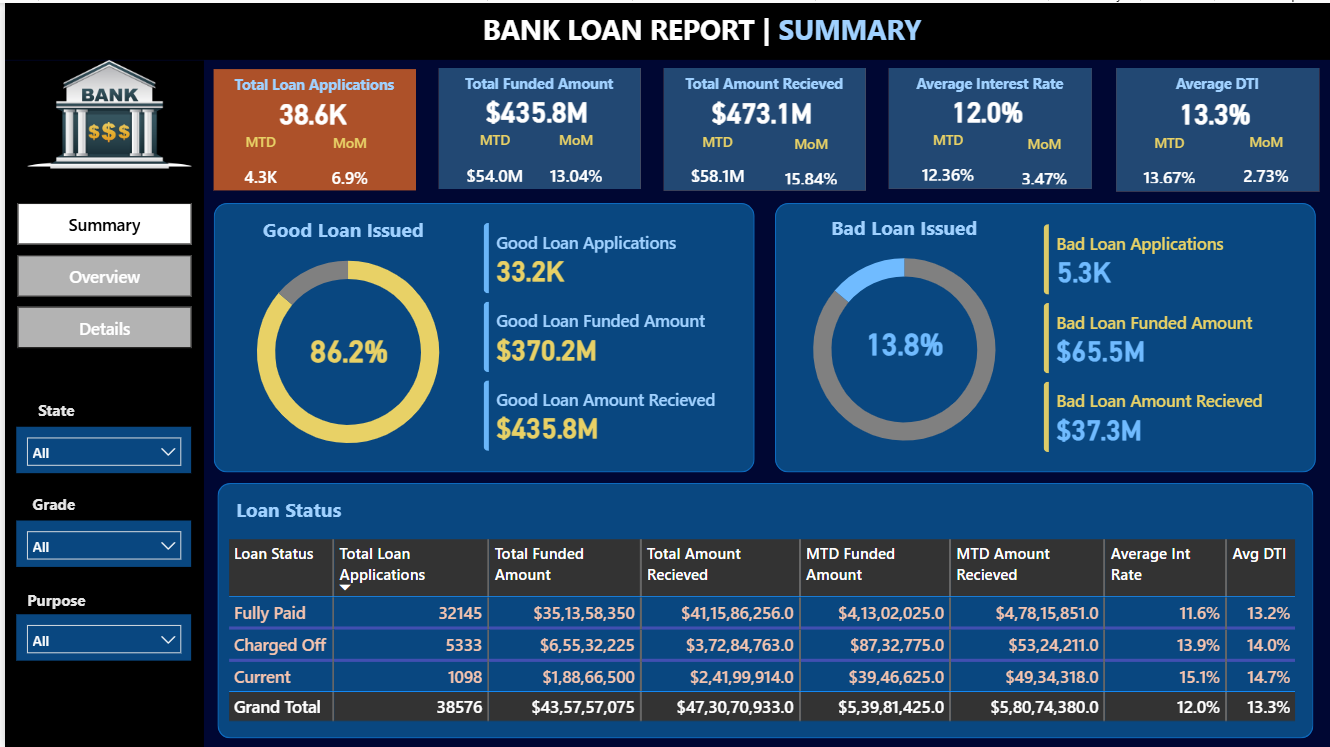

Layout of this report page (visuals, bound fields, positions):
{"tool":"powerbi","page":{"name":"Summary","canvas":[1280,720],"ordinal":0},"visuals":[{"type":"shape","box":[0,0,1280,54.9],"z":0},{"type":"shape","box":[419.4,63.1,195,117],"z":0,"group":"g2"},{"type":"shape","box":[636.9,63.1,195,118.4],"z":0,"group":"g3"},{"type":"shape","box":[853.7,63.1,196.1,116.6],"z":0,"group":"g4"},{"type":"shape","box":[1073.2,63.1,196.1,119.4],"z":0,"group":"g5"},{"type":"shape","box":[201.7,64.2,195,117],"z":0,"group":"g1"},{"type":"shape","box":[0,55.5,192,664.7],"z":1000},{"type":"textbox","box":[418,63.1,196.2,32.9],"z":1000,"group":"g2"},{"type":"textbox","box":[635.5,63.1,196.2,33.3],"z":1000,"group":"g3"},{"type":"textbox","box":[852.3,63.1,197.3,32.8],"z":1000,"group":"g4"},{"type":"textbox","box":[1071.8,63.1,197.3,33.6],"z":1000,"group":"g5"},{"type":"textbox","box":[200.3,64.2,196.2,32.9],"z":1000,"group":"g1"},{"type":"cardVisual","fields":{"Data":["bank_loan_data.Total Funded Amount"]},"box":[416.5,72,194.9,67.2],"z":2000,"group":"g2"},{"type":"cardVisual","fields":{"Data":["bank_loan_data.Average Int Rate"]},"box":[850.8,72,195.9,67],"z":2000,"group":"g4"},{"type":"cardVisual","fields":{"Data":["bank_loan_data.Total Amount Recieved"]},"box":[634,72.1,194.9,68],"z":2000,"group":"g3"},{"type":"cardVisual","fields":{"Data":["bank_loan_data.Avg DTI"]},"box":[1070.3,72.2,195.9,68.6],"z":2000,"group":"g5"},{"type":"cardVisual","fields":{"Data":["bank_loan_data.Total Loan Applications"]},"box":[200.3,76.5,194.9,60.4],"z":2000,"group":"g1"},{"type":"shape","box":[201.7,193.5,522,260],"z":2000},{"type":"cardVisual","title":"MTD","fields":{"Data":["bank_loan_data.MTD Loan Applications"]},"box":[211.3,124.6,71.4,54.9],"z":3000,"group":"g1"},{"type":"textbox","box":[204.5,201.7,245.6,41.2],"z":3000},{"type":"textbox","box":[455.6,2.7,437.7,48],"z":4000},{"type":"cardVisual","title":"MoM","fields":{"Data":["bank_loan_data.MOM Loan Applications"]},"box":[293.6,125.9,79.6,54.9],"z":4000,"group":"g1"},{"type":"cardVisual","fields":{"Data":["bank_loan_data.Good Loan %"]},"box":[264.8,303.3,137.2,63.1],"z":5000},{"type":"shape","box":[205.6,463.4,1057.7,246.5],"z":6000},{"type":"group","id":"g1","title":"Group 1","box":[200.3,64.2,196.4,117],"z":7000},{"type":"group","id":"g2","title":"Group 1","box":[416.5,63.1,197.6,116.6],"z":8000},{"type":"cardVisual","title":"MoM","fields":{"Data":["bank_loan_data.MOM Funded Amount"]},"box":[503.6,123.5,96.1,54.9],"z":9000},{"type":"group","id":"g3","title":"Group 1","box":[634,63.1,197.6,118],"z":10000},{"type":"cardVisual","title":"MoM","fields":{"Data":["bank_loan_data.MOM Amount Recieved"]},"box":[729.9,126.7,96.5,54.3],"z":11000},{"type":"cardVisual","title":"MTD","fields":{"Data":["bank_loan_data.MTD Funded amount"]},"box":[424,123.5,98.8,54.9],"z":12000},{"type":"cardVisual","title":"MTD","fields":{"Data":["bank_loan_data.MTD Amount Recieved"]},"box":[640.6,124.3,94.1,54.3],"z":13000},{"type":"group","id":"g4","title":"Group 1","box":[850.8,63.1,199,116.6],"z":14000},{"type":"cardVisual","title":"MTD","fields":{"Data":["bank_loan_data.MTD Avg Int Rates"]},"box":[865,123.1,90.5,54.3],"z":15000},{"type":"cardVisual","title":"MoM","fields":{"Data":["bank_loan_data.MOM Avg Int Rate"]},"box":[955.5,126.7,95.3,54.3],"z":16000},{"type":"group","id":"g5","title":"Group 1","box":[1070.3,63.1,199,119.4],"z":17000},{"type":"cardVisual","title":"MTD","fields":{"Data":["bank_loan_data.MTD Avg DTI"]},"box":[1078.6,125.5,90.5,54.3],"z":18000},{"type":"cardVisual","title":"MoM","fields":{"Data":["bank_loan_data.MOM Avg DTI"]},"box":[1169,124.3,96.5,54.3],"z":19000},{"type":"shape","box":[743.7,193.5,522,260],"z":20000},{"type":"donutChart","fields":{"Category":["bank_loan_data.Good v/s Bad Loan"],"Y":["bank_loan_data.Total Loan Applications"]},"box":[205.8,222.3,250,230],"z":21000},{"type":"cardVisual","fields":{"Data":["bank_loan_data.Good Loan Applications","bank_loan_data.Good Loan Funded Amount","bank_loan_data.Good Loan Amount Recieved"]},"box":[444.6,194.9,277.2,255.2],"z":22000},{"type":"donutChart","fields":{"Category":["bank_loan_data.Good v/s Bad Loan"],"Y":["bank_loan_data.Total Loan Applications"]},"box":[743.7,219.6,250,230],"z":23000},{"type":"textbox","box":[743.7,199,249.7,41.2],"z":24000},{"type":"cardVisual","fields":{"Data":["bank_loan_data.Bad Loan %"]},"box":[801.4,296.4,134.5,63.1],"z":25000},{"type":"cardVisual","fields":{"Data":["bank_loan_data.Bad Loan Applications","bank_loan_data.Bad Loan Funded Amount","bank_loan_data.Bad Loan Amount Recieved"]},"box":[985.3,196.2,277.2,255.2],"z":26000},{"type":"tableEx","fields":{"Values":["bank_loan_data.loan_status","bank_loan_data.Total Loan Applications","bank_loan_data.Total Funded Amount","bank_loan_data.Total Amount Recieved","bank_loan_data.MTD Funded amount","bank_loan_data.MTD Amount Recieved","bank_loan_data.Average Int Rate","bank_loan_data.Avg DTI"]},"box":[209.9,512.7,1049.3,190.1],"z":27000},{"type":"textbox","box":[211.3,471.8,125.4,40.8],"z":28000},{"type":"slicer","fields":{"Values":["bank_loan_data.address_state"]},"box":[11.3,408.5,169,45.1],"z":29000},{"type":"textbox","box":[11.3,377.5,77.5,32.4],"z":30000},{"type":"slicer","fields":{"Values":["bank_loan_data.grade"]},"box":[11.3,500,169,45.1],"z":31000},{"type":"textbox","box":[8.5,467.6,77.5,32.4],"z":32000},{"type":"slicer","fields":{"Values":["bank_loan_data.purpose"]},"box":[11.3,590.1,169,45.1],"z":33000},{"type":"textbox","box":[11.3,560.6,77.5,32.4],"z":34000},{"type":"image","box":[21.7,35,158,144.8],"z":35000},{"type":"pageNavigator","box":[12.1,193,168.9,141.2],"z":36000}]}

Visuals, with their boxes in screenshot pixels (x1, y1, x2, y2), scaled from the page's 1280x720 canvas onto the 1330x747 screenshot:
shape: (0, 0, 1329, 57)
shape: (436, 65, 638, 187)
shape: (662, 65, 864, 188)
shape: (887, 65, 1091, 186)
shape: (1115, 65, 1319, 189)
shape: (210, 67, 412, 188)
shape: (0, 58, 200, 746)
textbox: (434, 65, 638, 100)
textbox: (660, 65, 864, 100)
textbox: (886, 65, 1091, 99)
textbox: (1114, 65, 1319, 100)
textbox: (208, 67, 412, 101)
cardVisual - bank_loan_data.Total Funded Amount: (433, 75, 635, 144)
cardVisual - bank_loan_data.Average Int Rate: (884, 75, 1088, 144)
cardVisual - bank_loan_data.Total Amount Recieved: (659, 75, 861, 145)
cardVisual - bank_loan_data.Avg DTI: (1112, 75, 1316, 146)
cardVisual - bank_loan_data.Total Loan Applications: (208, 79, 411, 142)
shape: (210, 201, 752, 471)
"MTD" cardVisual: (220, 129, 294, 186)
textbox: (212, 209, 468, 252)
textbox: (473, 3, 928, 53)
"MoM" cardVisual: (305, 131, 388, 188)
cardVisual - bank_loan_data.Good Loan %: (275, 315, 418, 380)
shape: (214, 481, 1313, 737)
"Group 1" group: (208, 67, 412, 188)
"Group 1" group: (433, 65, 638, 186)
"MoM" cardVisual: (523, 128, 623, 185)
"Group 1" group: (659, 65, 864, 188)
"MoM" cardVisual: (758, 131, 859, 188)
"MTD" cardVisual: (441, 128, 543, 185)
"MTD" cardVisual: (666, 129, 763, 185)
"Group 1" group: (884, 65, 1091, 186)
"MTD" cardVisual: (899, 128, 993, 184)
"MoM" cardVisual: (993, 131, 1092, 188)
"Group 1" group: (1112, 65, 1319, 189)
"MTD" cardVisual: (1121, 130, 1215, 187)
"MoM" cardVisual: (1215, 129, 1315, 185)
shape: (773, 201, 1315, 471)
donutChart - bank_loan_data.Good v/s Bad Loan x bank_loan_data.Total Loan Applications: (214, 231, 474, 469)
cardVisual - bank_loan_data.Good Loan Applications x bank_loan_data.Good Loan Funded Amount: (462, 202, 750, 467)
donutChart - bank_loan_data.Good v/s Bad Loan x bank_loan_data.Total Loan Applications: (773, 228, 1033, 466)
textbox: (773, 206, 1032, 249)
cardVisual - bank_loan_data.Bad Loan %: (833, 308, 972, 373)
cardVisual - bank_loan_data.Bad Loan Applications x bank_loan_data.Bad Loan Funded Amount: (1024, 204, 1312, 468)
tableEx - bank_loan_data.loan_status x bank_loan_data.Total Loan Applications: (218, 532, 1308, 729)
textbox: (220, 489, 350, 532)
slicer - bank_loan_data.address_state: (12, 424, 187, 471)
textbox: (12, 392, 92, 425)
slicer - bank_loan_data.grade: (12, 519, 187, 566)
textbox: (9, 485, 89, 519)
slicer - bank_loan_data.purpose: (12, 612, 187, 659)
textbox: (12, 582, 92, 615)
image: (23, 36, 187, 187)
pageNavigator: (13, 200, 188, 347)
